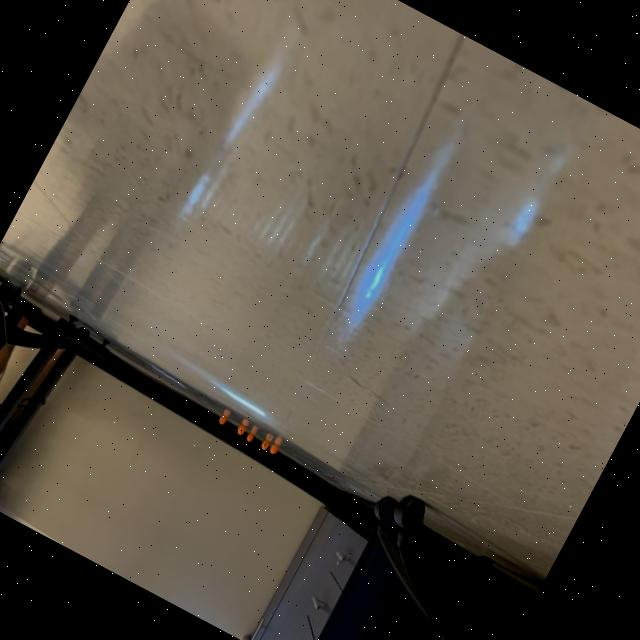ping-pong-ball: (234, 422, 247, 437), (266, 442, 279, 456), (243, 430, 256, 443), (215, 412, 227, 425), (258, 438, 270, 450)
